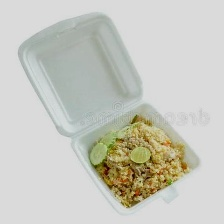foam_box: (14, 7, 208, 219)
